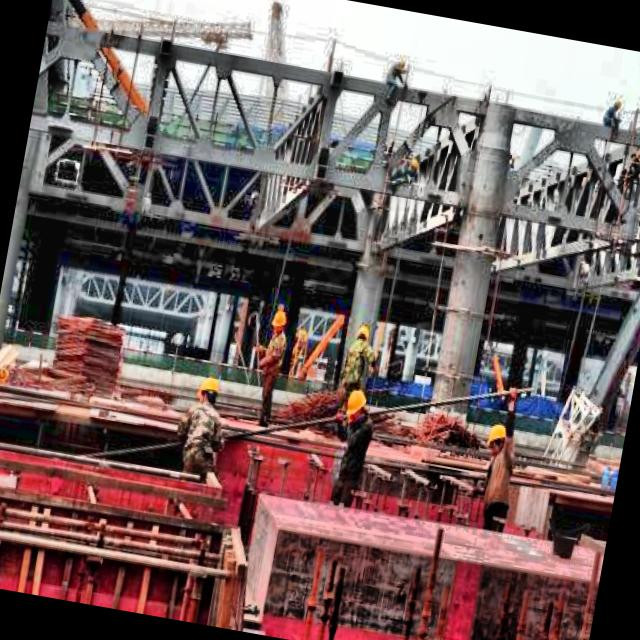helmet: (480, 414, 513, 471), (190, 372, 222, 418), (344, 382, 372, 431), (351, 320, 372, 354), (268, 306, 288, 340)
